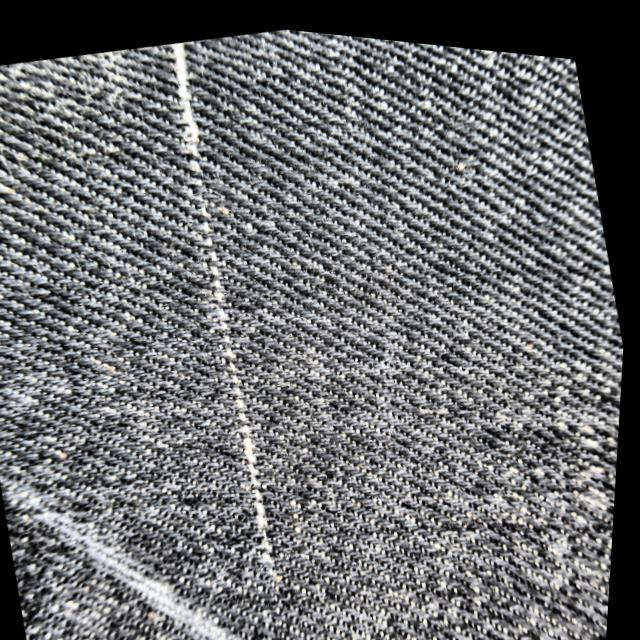Hole: (146, 36, 309, 576)
